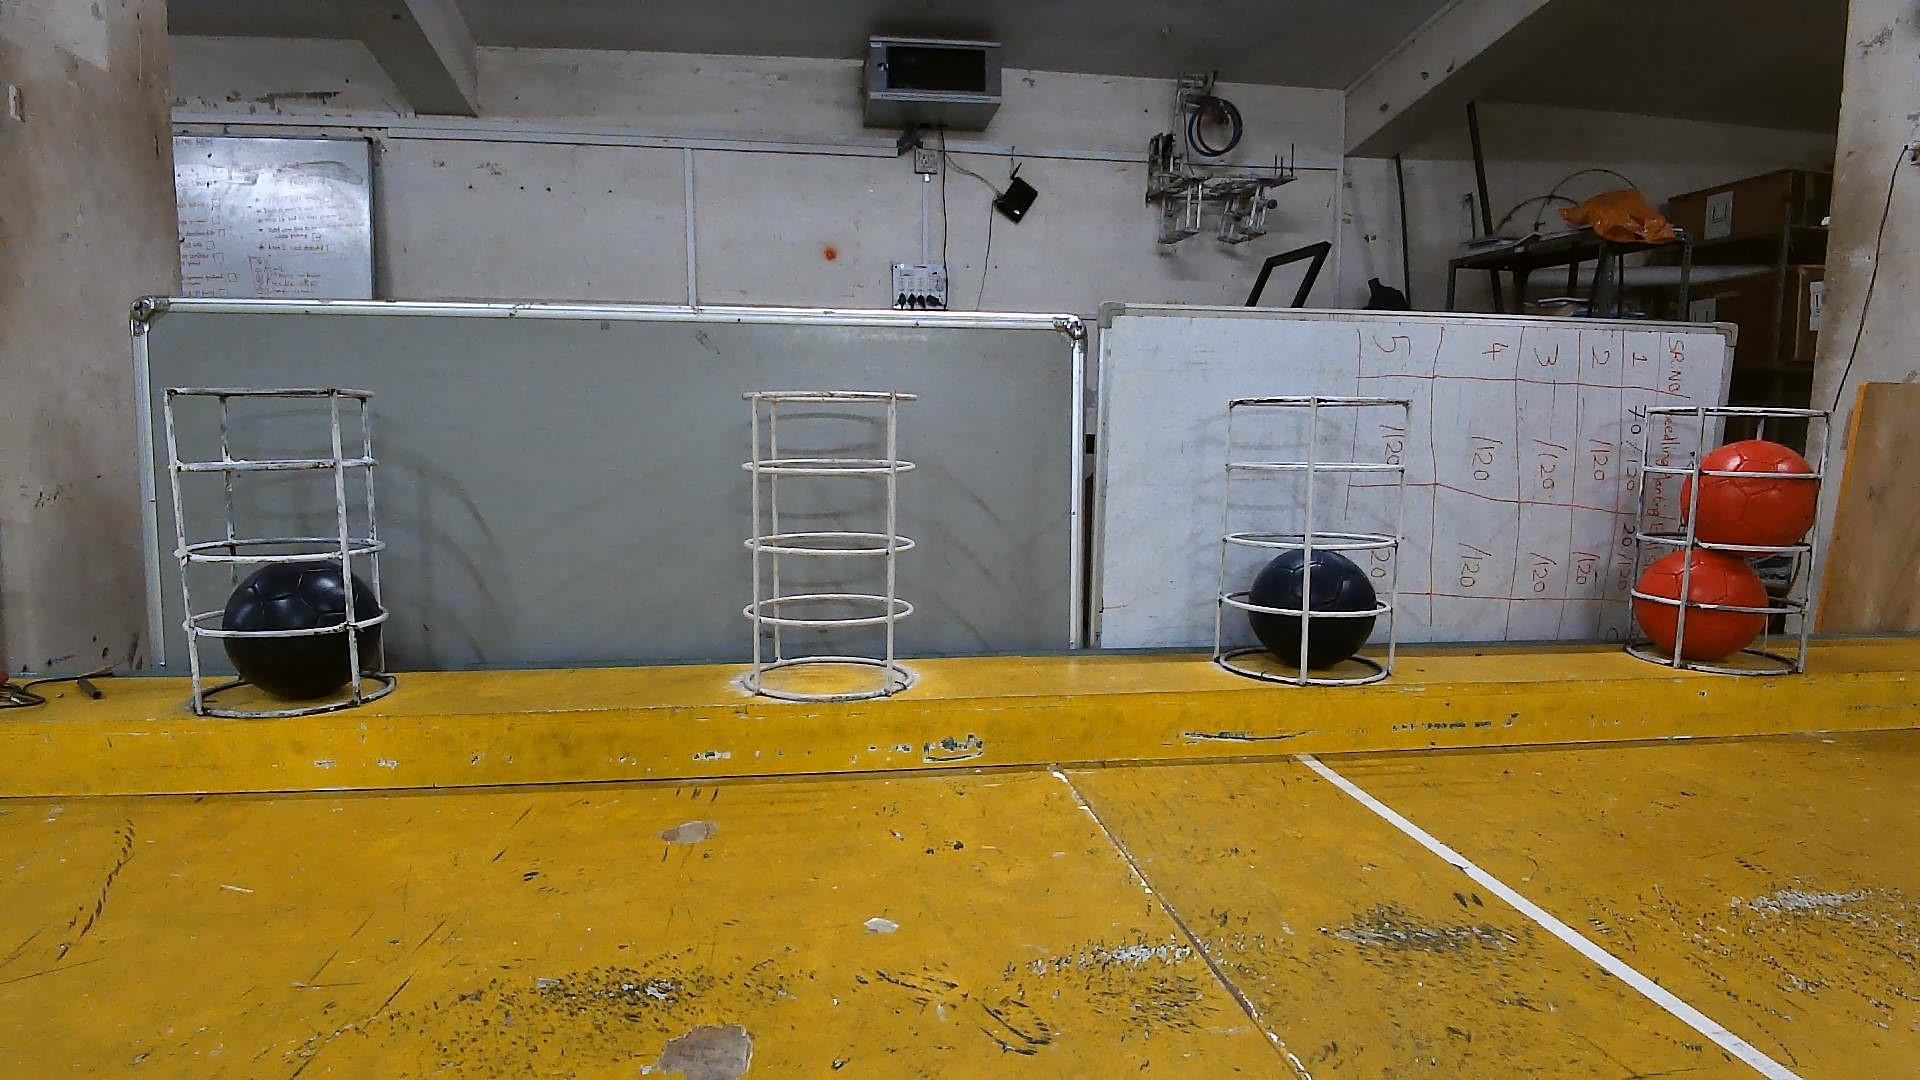dhoka: (224, 570, 367, 704), (1247, 550, 1375, 673)
laale: (1635, 547, 1770, 661), (1680, 439, 1818, 547)
